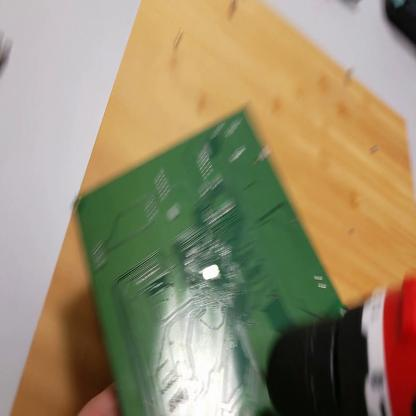electric screwdriver: (266, 272, 416, 416)
hand: (78, 380, 122, 413)
low voltage board: (75, 92, 360, 416)
working area: (12, 2, 416, 414)
